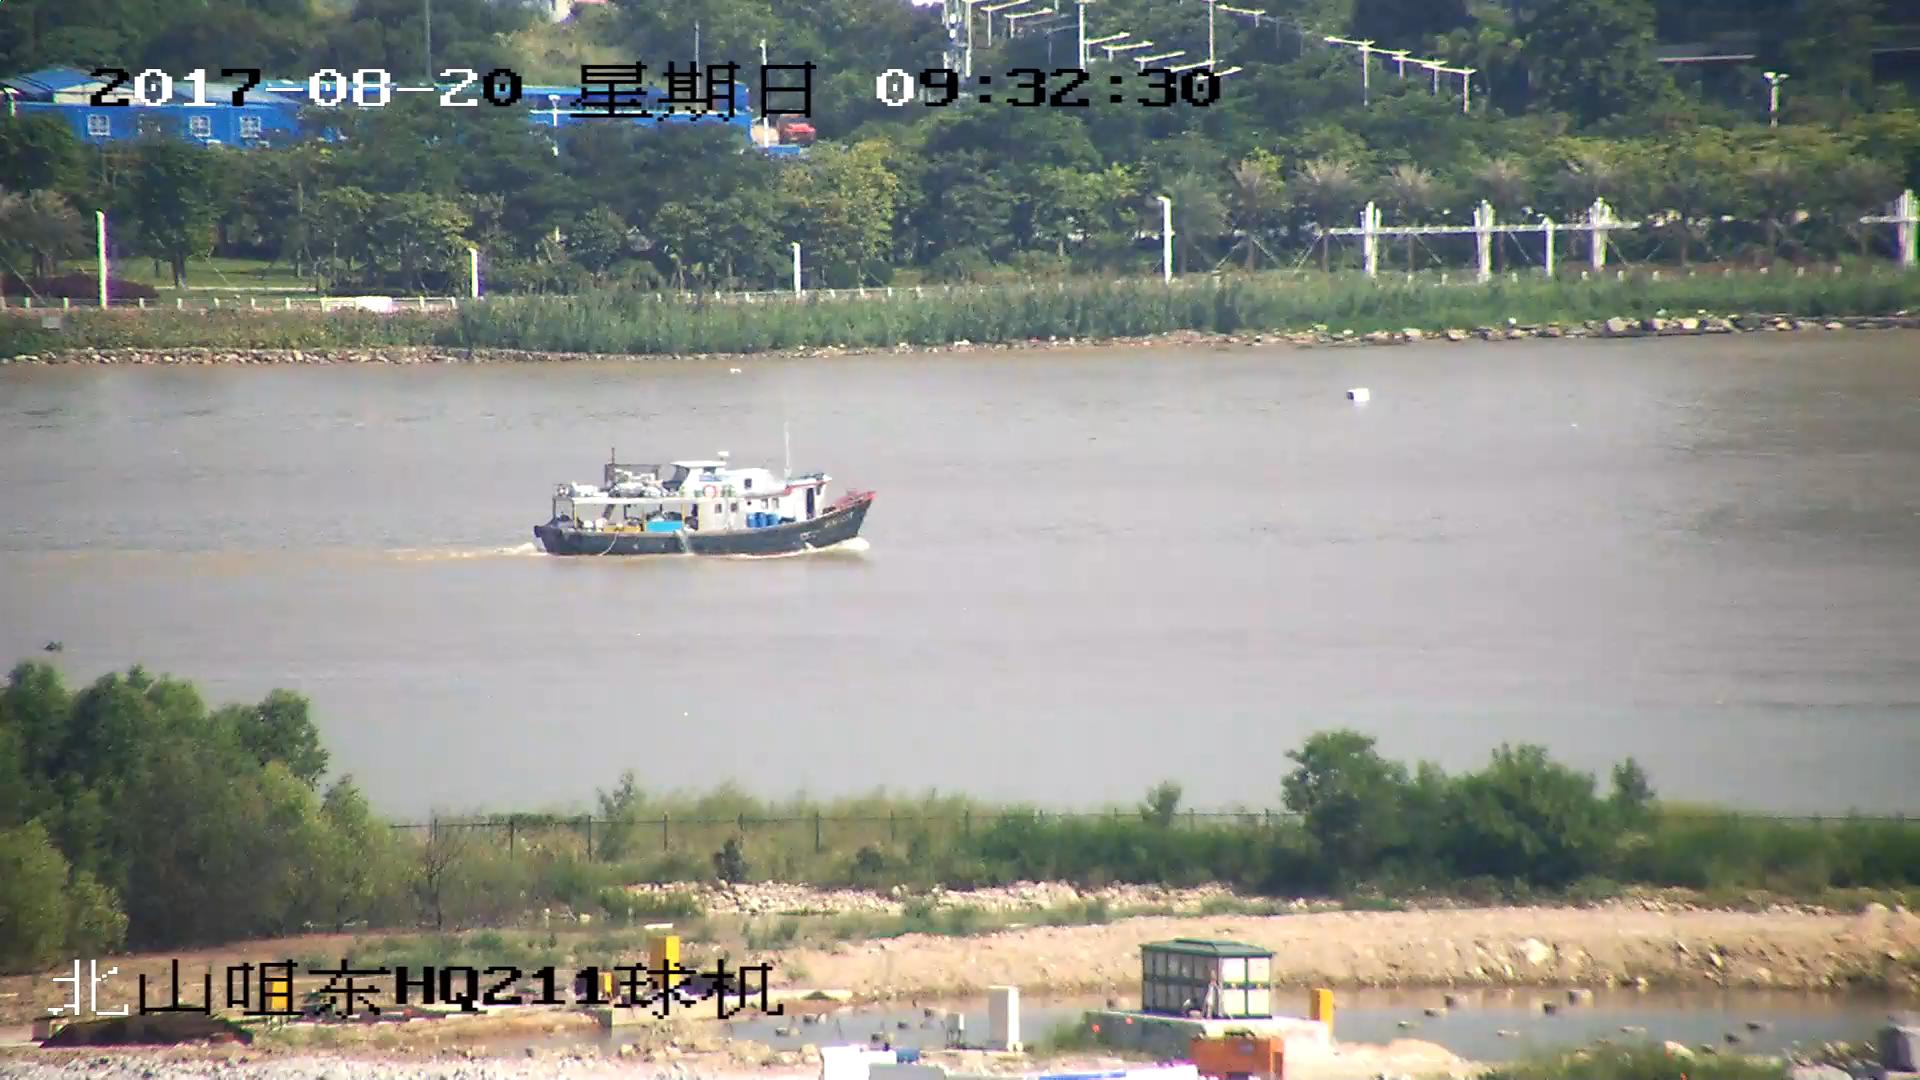fishing boat: (534, 452, 876, 556)
